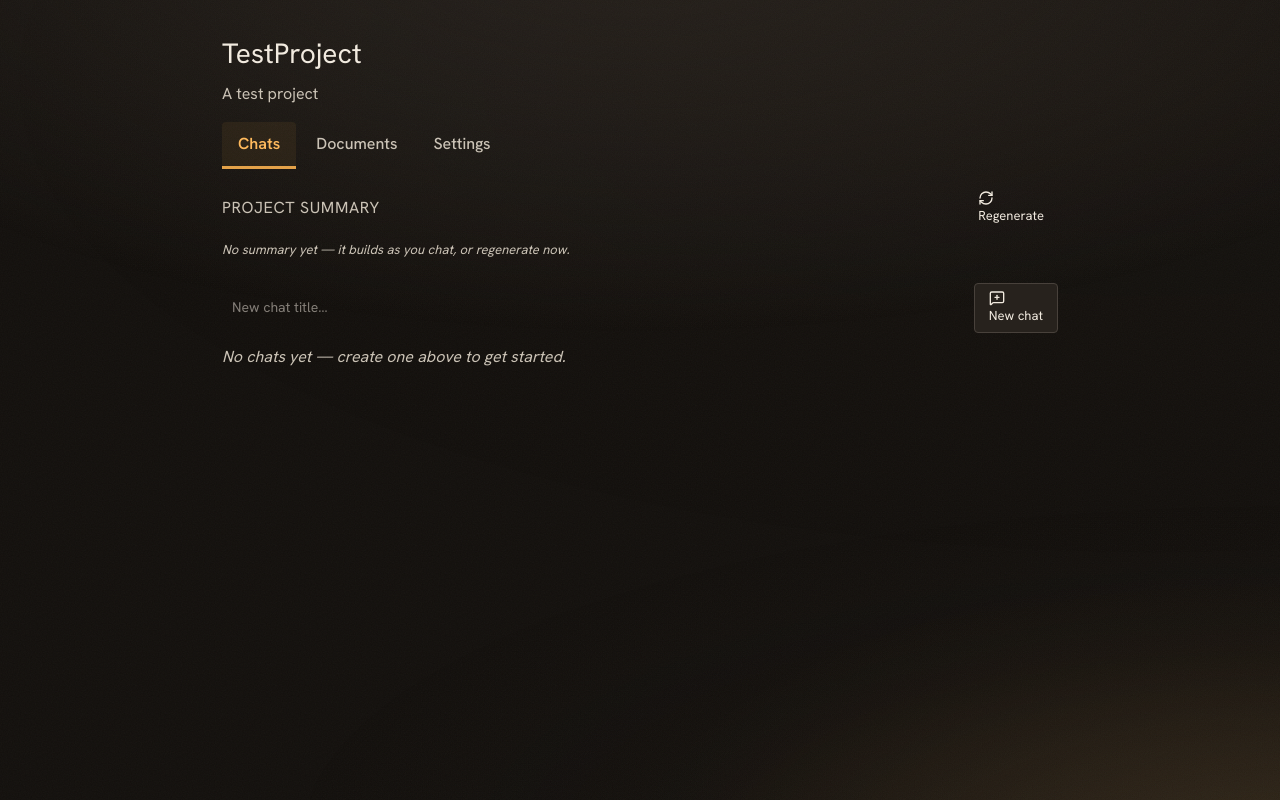
Scenario: Project page › clicking the Documents tab switches the panel
The image size is (1280, 800).
Click the tab with test id "project-tab-documents".
click(357, 146)  # box [300,122,414,169]
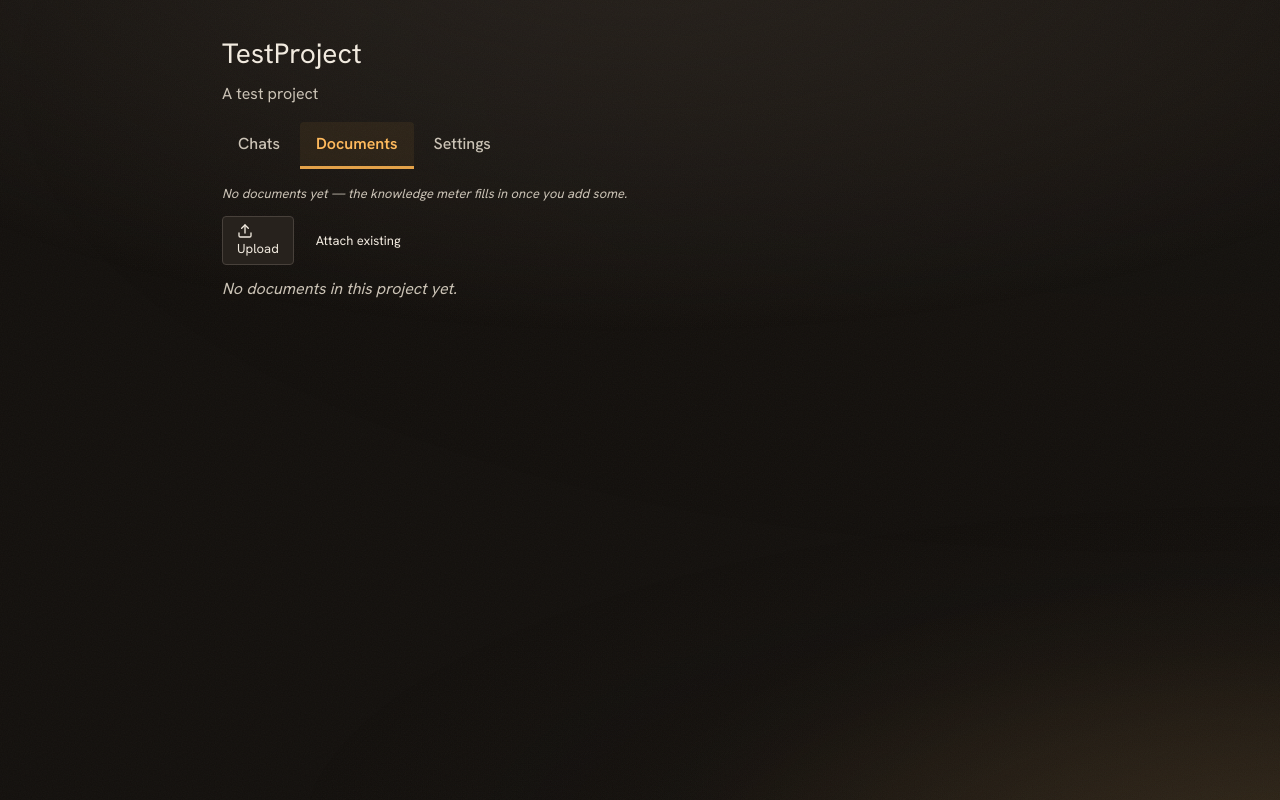
Now the list with test id "project-docs-list" is shown, box [222,278,457,299]
Now the file field with test id "project-doc-upload-input" is shown, box [222,216,294,265]
